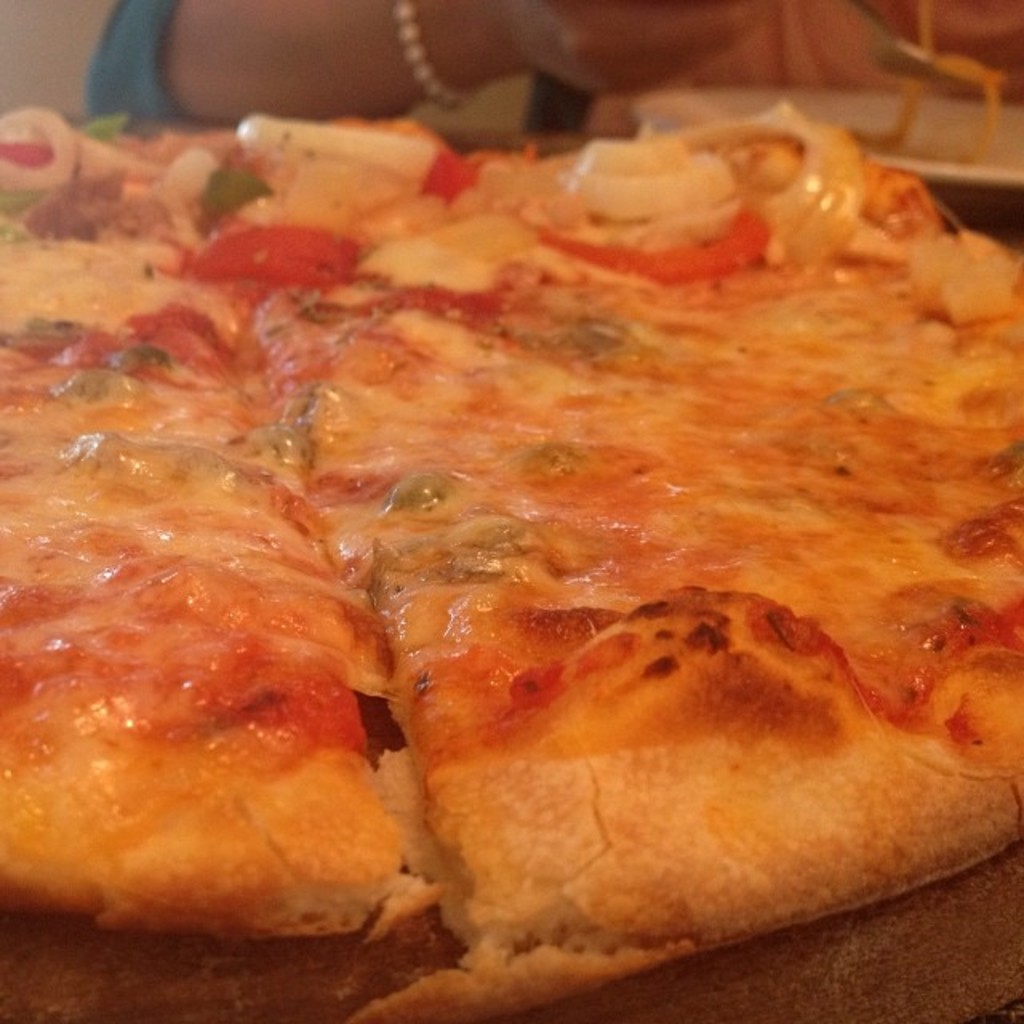Pizza: (4, 88, 1024, 995)
